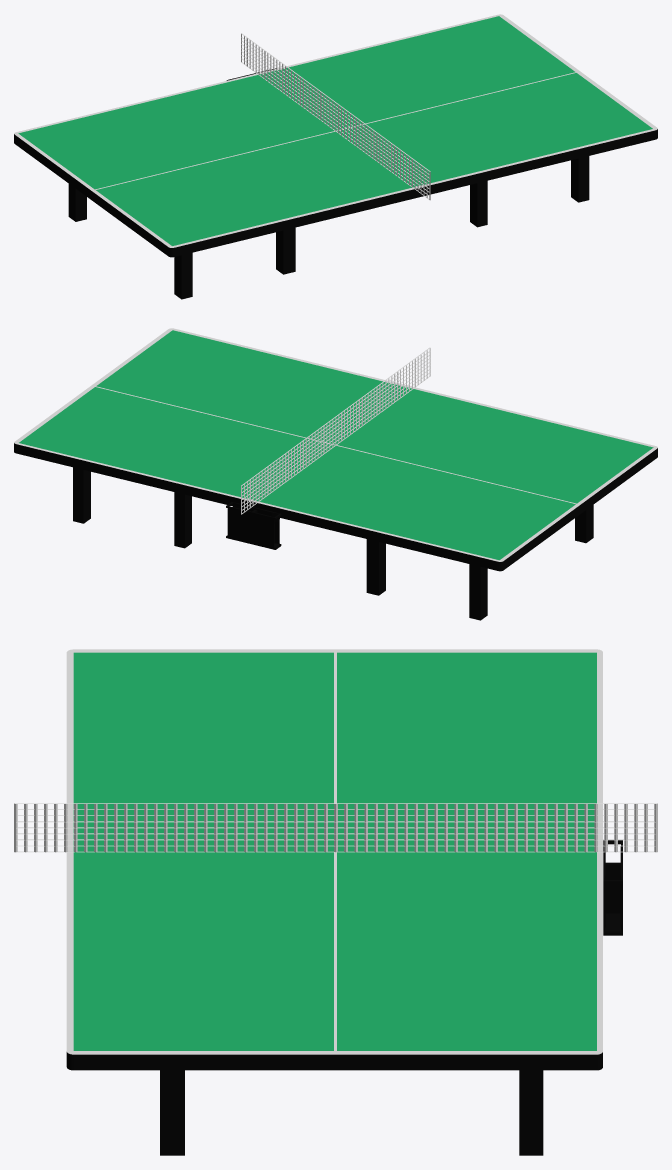
File: Tabletennis.fbx
3 views of the same model, one above another, from view 1: azimuth 30°, elevation 25°; view 2: azimuth 150°, elevation 25°; view 3: azimuth 270°, elevation 25° (orthographic). The views are drawn at different scales.
Parts seen in each view (by area): view 1: Cube.001, Cube.002, Plane; view 2: Cube.001, Cube.002, Plane, Cube; view 3: Cube.002, Cube.001, Plane, Cube.
Boxes of the visible parts, bbox=[...] form: Cube.001: bbox=[14, 73, 414, 299]; Cube.002: bbox=[258, 14, 657, 227]; Plane: bbox=[241, 33, 430, 200]; Cube.001: bbox=[257, 387, 657, 620]; Cube.002: bbox=[14, 328, 414, 548]; Plane: bbox=[241, 347, 430, 514]; Cube: bbox=[226, 502, 281, 549]; Cube.002: bbox=[66, 852, 602, 1155]; Cube.001: bbox=[66, 649, 602, 851]; Plane: bbox=[14, 803, 657, 852]; Cube: bbox=[603, 840, 622, 935].
Bounding box in the file's own units: 548 × 117 × 368.
